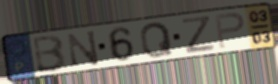6: (107, 26, 136, 64)
B: (32, 33, 69, 75)
N: (65, 28, 102, 68)
P: (213, 11, 247, 50)
Q: (139, 20, 175, 60)
Z: (181, 14, 217, 55)
